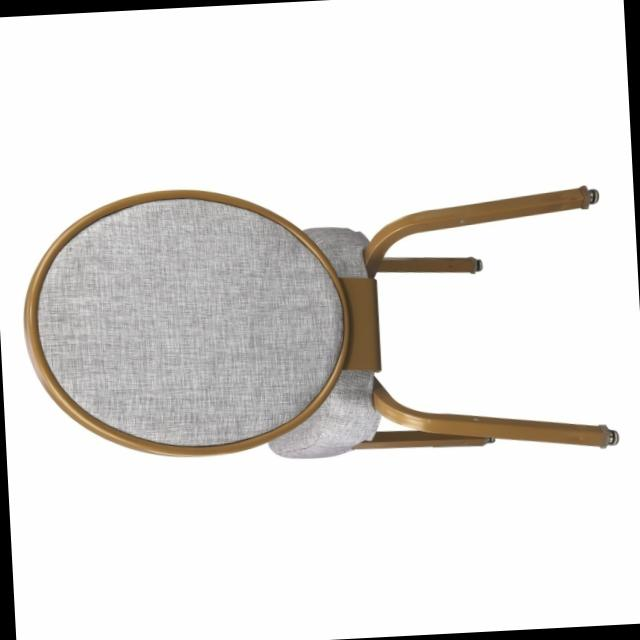Chair: (14, 162, 620, 488)
